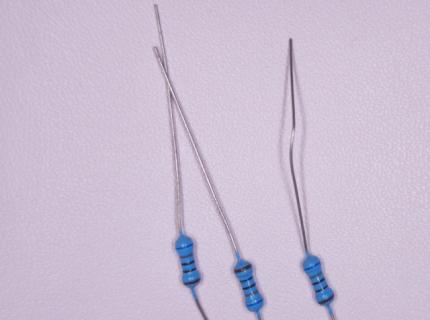Blue band: (303, 261, 321, 271), (246, 298, 263, 307), (176, 243, 193, 250)
Grey band: (310, 271, 322, 280), (245, 289, 259, 296), (180, 252, 193, 259)
